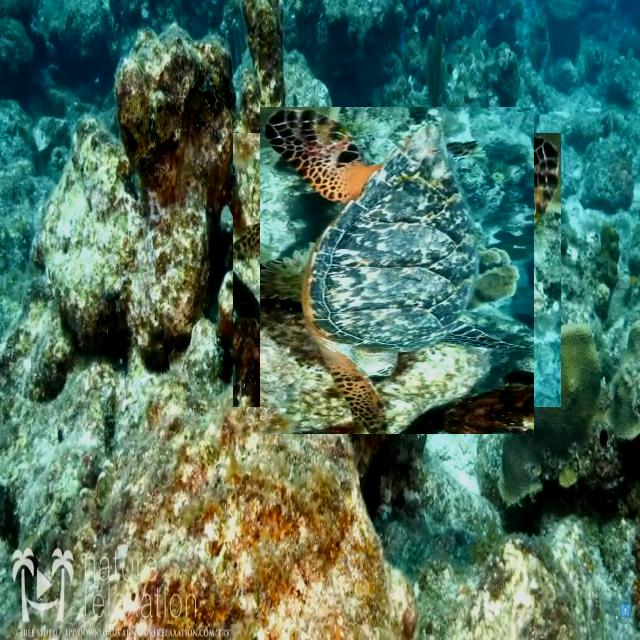Sea turtle: (247, 119, 547, 421)
